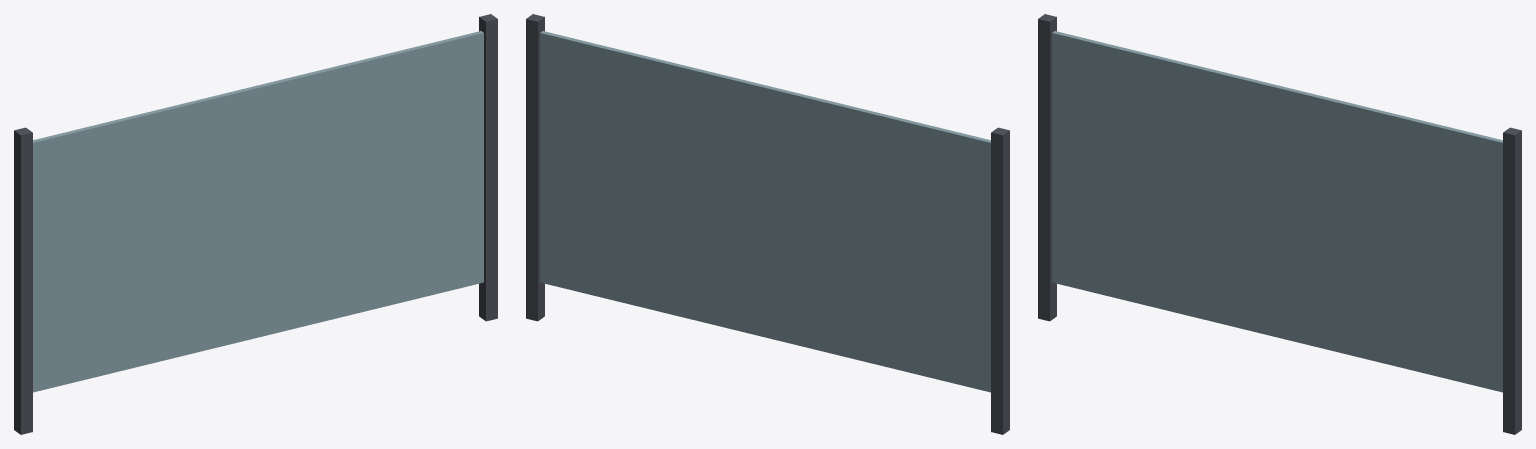
File: shelter_back.glb
The picture shows the model from 3 angles, left to right: view 1: azimuth 30°, elevation 25°; view 2: azimuth 150°, elevation 25°; view 3: azimuth 330°, elevation 25°; orthographic projection.
Parts seen in each view (by area): view 1: placeholder; view 2: placeholder; view 3: placeholder.
Boxes of the visible parts, x1,y1,x2,y2 form: placeholder: [14, 14, 497, 434]; placeholder: [526, 14, 1009, 434]; placeholder: [1038, 14, 1521, 434].
Size of the model in its own units: 4 by 2.4 by 0.1.
